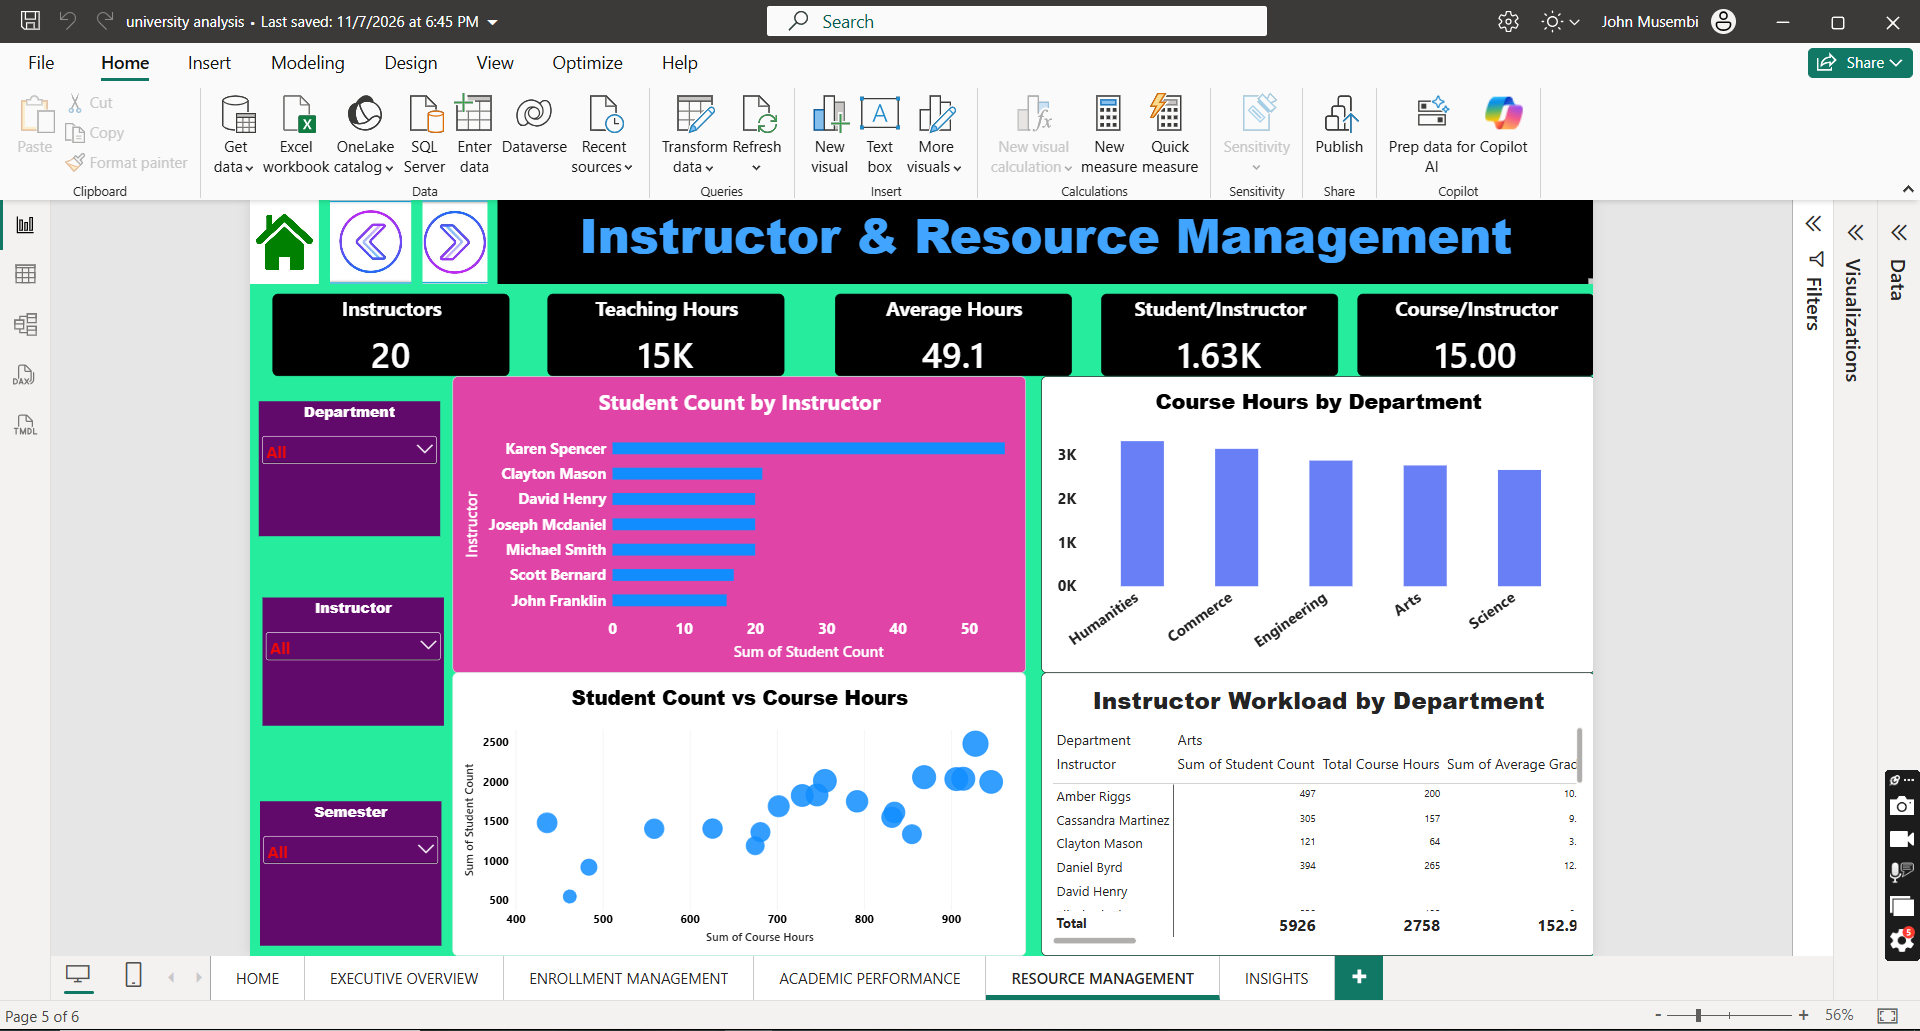

Layout of this report page (visuals, bound fields, positions):
{"tool":"powerbi","page":{"name":"RESOURCE MANAGEMENT","canvas":[1920,1080],"ordinal":4},"visuals":[{"type":"textbox","title":"Instructor & Resource Management","box":[353.6,0,1566.1,119.6],"z":0},{"type":"cardVisual","title":"Instructors","fields":{"Data":["University_Courses.Total Instructors"]},"box":[32.2,134.3,338.7,117.3],"z":1},{"type":"cardVisual","title":"Teaching Hours","fields":{"Data":["University_Courses.Total Course Hours"]},"box":[425.7,134.3,338.7,117.3],"z":2},{"type":"cardVisual","title":"Average Hours","fields":{"Data":["University_Courses.Average Course Hours"]},"box":[836.3,134.3,338.7,117.3],"z":3},{"type":"cardVisual","title":"Course/Instructor","fields":{"Data":["University_Courses.Average Courses per Instructor"]},"box":[1581.7,134.3,338.7,117.3],"z":4},{"type":"cardVisual","title":"Student/Instructor","fields":{"Data":["University_Courses.Average Students per Instructor"]},"box":[1216.6,134.3,338.7,117.3],"z":5},{"type":"slicer","title":"Department","fields":{"Values":["University_Courses.Department"]},"box":[13.2,287.6,259.2,193],"z":6},{"type":"slicer","title":"Instructor","fields":{"Values":["University_Courses.Instructor"]},"box":[17,567.6,259.2,183.5],"z":7},{"type":"slicer","title":"Semester","fields":{"Values":["University_Courses.Semester"]},"box":[15.1,859,259.2,206.2],"z":8},{"type":"clusteredBarChart","title":"Student Count by Instructor","fields":{"Category":["University_Courses.Instructor"],"Y":["Sum(University_Courses.Student Count)"]},"box":[289.5,251.6,819.2,423.8],"z":9},{"type":"clusteredColumnChart","title":"Course Hours by Department","fields":{"Category":["University_Courses.Department"],"Y":["University_Courses.Total Course Hours"]},"box":[1129.5,251.6,790.9,423.8],"z":10},{"type":"scatterChart","title":"Student Count vs Course Hours","fields":{"Category":["University_Courses.Instructor"],"Size":["Sum(University_Courses.Student Count)"],"X":["Sum(University_Courses.Course Hours)"],"Y":["Sum(University_Courses.Student Count)"]},"box":[289.5,675.4,819.2,404.9],"z":11},{"type":"pivotTable","title":"Instructor Workload by Department","fields":{"Columns":["University_Courses.Department"],"Rows":["University_Courses.Instructor"],"Values":["Sum(University_Courses.Student Count)","University_Courses.Total Course Hours","Sum(University_Courses.Average Grade)"]},"box":[1129.5,675.4,790.9,404.9],"z":12},{"type":"image","box":[246.4,0,92.9,119.6],"z":13},{"type":"image","box":[0,0,98.2,119.6],"z":14},{"type":"image","box":[114.3,0,116.1,119.6],"z":15}]}

Visuals, with their boxes on the page's 1920x1080 design canvas (x1, y1, x2, y2). These are canvas units, not pixel positions in the 1920x1031 screenshot, which may show the page scaled, cropped or inside an application window:
"Instructor & Resource Management" textbox: region(354, 0, 1920, 120)
"Instructors" cardVisual: region(32, 134, 371, 252)
"Teaching Hours" cardVisual: region(426, 134, 764, 252)
"Average Hours" cardVisual: region(836, 134, 1175, 252)
"Course/Instructor" cardVisual: region(1582, 134, 1920, 252)
"Student/Instructor" cardVisual: region(1217, 134, 1555, 252)
"Department" slicer: region(13, 288, 272, 481)
"Instructor" slicer: region(17, 568, 276, 751)
"Semester" slicer: region(15, 859, 274, 1065)
"Student Count by Instructor" clusteredBarChart: region(290, 252, 1109, 675)
"Course Hours by Department" clusteredColumnChart: region(1130, 252, 1920, 675)
"Student Count vs Course Hours" scatterChart: region(290, 675, 1109, 1080)
"Instructor Workload by Department" pivotTable: region(1130, 675, 1920, 1080)
image: region(246, 0, 339, 120)
image: region(0, 0, 98, 120)
image: region(114, 0, 230, 120)
